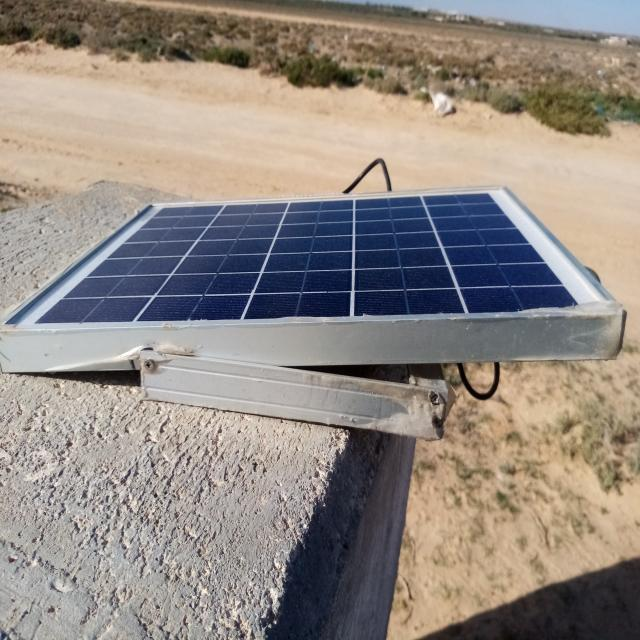no faulty: (5, 187, 620, 328)
